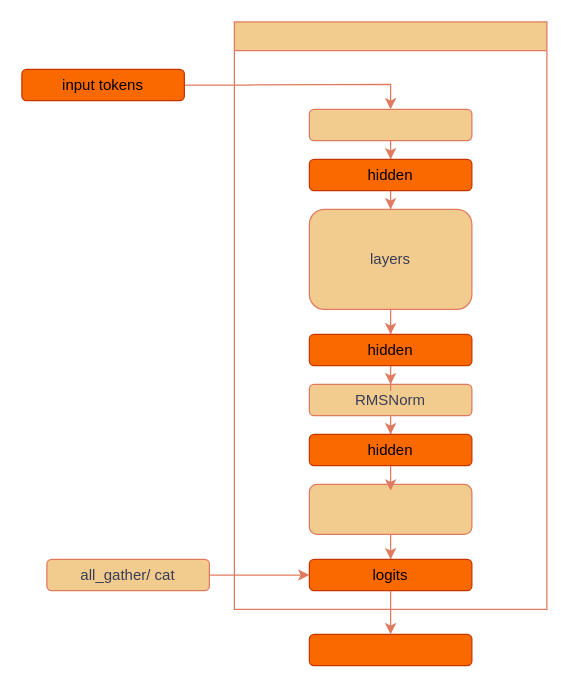
Image size: 569x688. Some labels were removed from this diagram. Here are the shapes that lost their labels. From the top down, the box of each, then its label:
(308, 108, 472, 141): ParallelEmbedding
(233, 21, 547, 609): DeepSeek-V3
(308, 483, 472, 534): head :: ColumnParallelLinear
(308, 633, 472, 666): output logits
